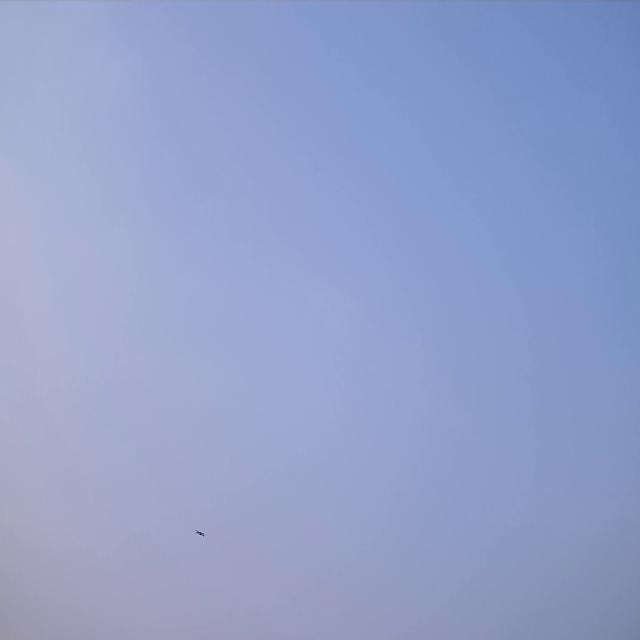UAV: (194, 528, 206, 538)
